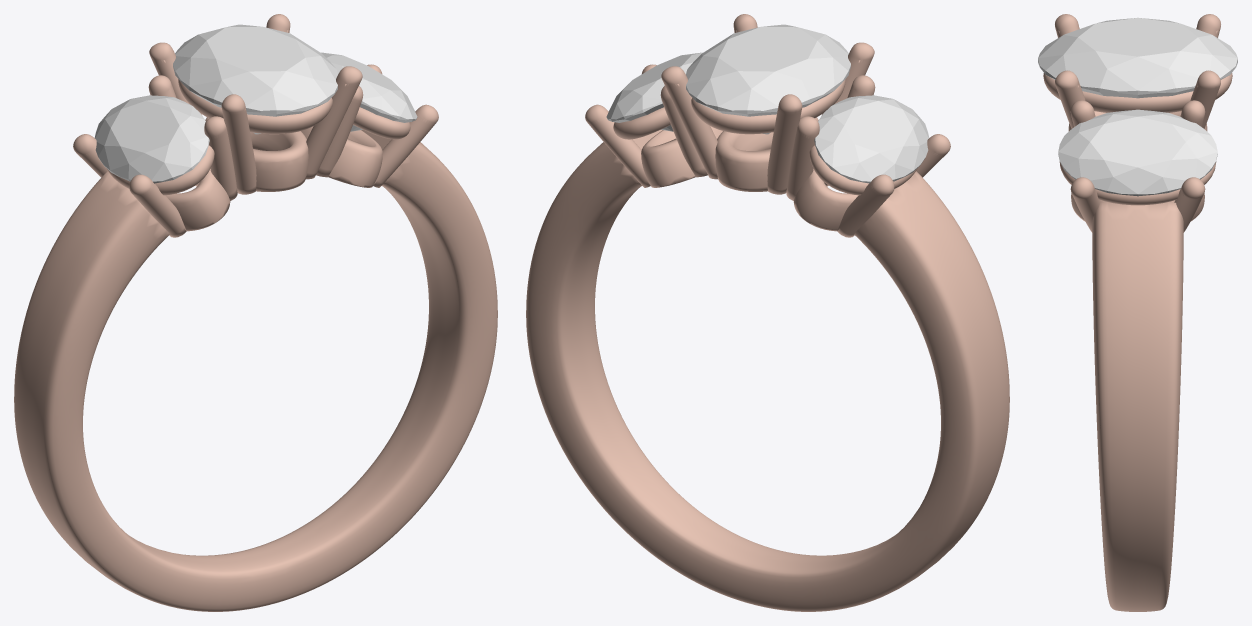
Rendered from diamond-oval-rosegold-4prong-straighttaperedband-3stone.glb.
3 views of the same model, side by side, from view 1: azimuth 30°, elevation 25°; view 2: azimuth 150°, elevation 25°; view 3: azimuth 270°, elevation 25° (orthographic).
Visible parts, largest first — view 1: metal, stone, side.001, side; view 2: metal, stone, side.001, side; view 3: metal, stone, side.
Boxes of the visible parts, left/top/right/bottom form: metal: left=14, top=14, right=497, bottom=611; stone: left=173, top=24, right=337, bottom=134; side.001: left=94, top=95, right=209, bottom=183; side: left=321, top=52, right=417, bottom=131; metal: left=526, top=14, right=1009, bottom=611; stone: left=686, top=24, right=850, bottom=134; side.001: left=814, top=95, right=929, bottom=183; side: left=606, top=52, right=702, bottom=131; metal: left=1043, top=14, right=1232, bottom=611; stone: left=1038, top=17, right=1237, bottom=98; side: left=1058, top=109, right=1217, bottom=196.
Bounding box in the file's own units: 20.1 × 23.21 × 7.64.
